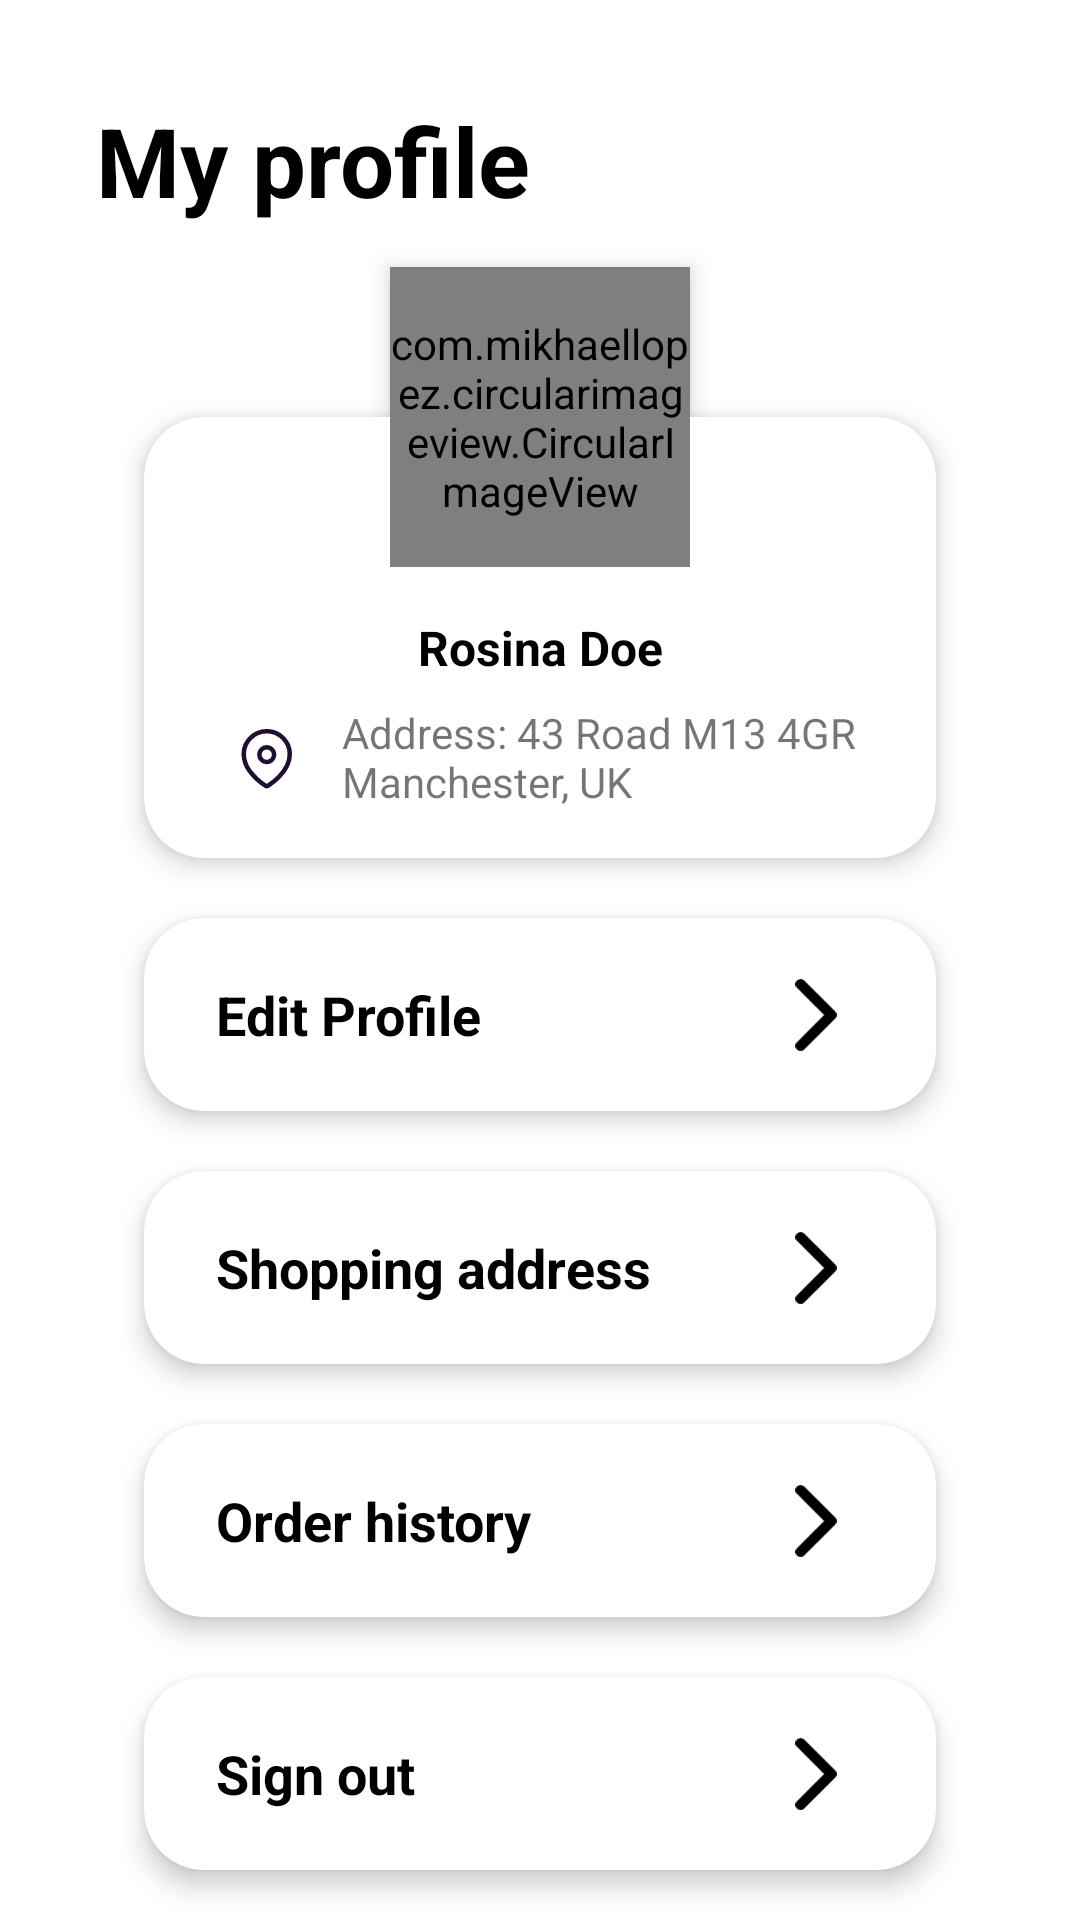

Screen size 1080*1920. Icon name, then its center in pixels as [x,y]:
arrow right: [816,1015], [816,1268], [816,1521], [816,1774]
location: [266,759]
